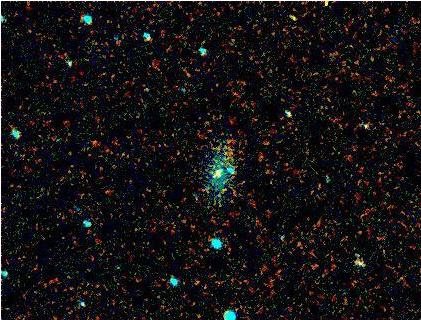star: (199, 157, 229, 187)
